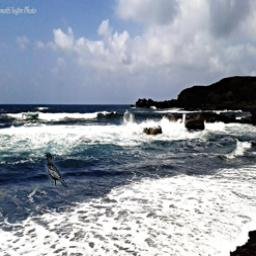Crow: (45, 153, 68, 188)
